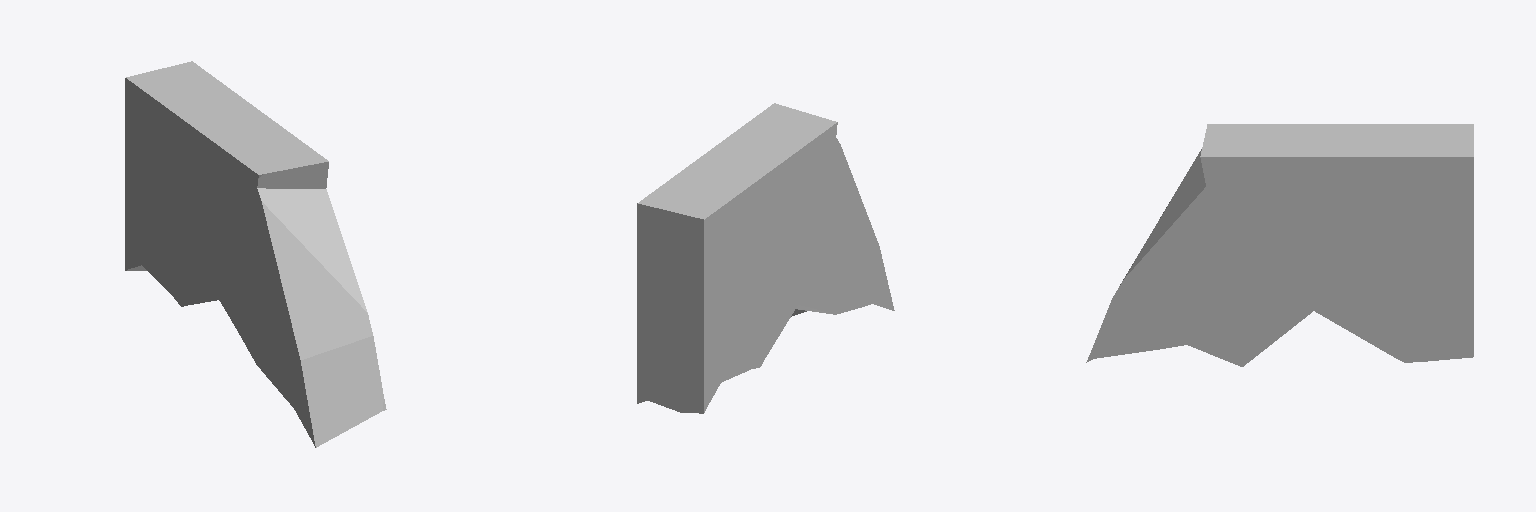
Rendered from broken_wall_07.obj.
3 renders of one model, left to right at view 1: azimuth 30°, elevation 25°; view 2: azimuth 150°, elevation 25°; view 3: azimuth 270°, elevation 25°, orthographic.
Parts seen in each view (by area): view 1: Cube.012_Cube.023; view 2: Cube.012_Cube.023; view 3: Cube.012_Cube.023.
Boxes of the visible parts, box(x1,y1,x2,y2) form: Cube.012_Cube.023: box(125, 61, 386, 447); Cube.012_Cube.023: box(637, 103, 894, 413); Cube.012_Cube.023: box(1086, 124, 1473, 366).
Bounding box in the file's own units: 0.5 × 1.65 × 2.51.